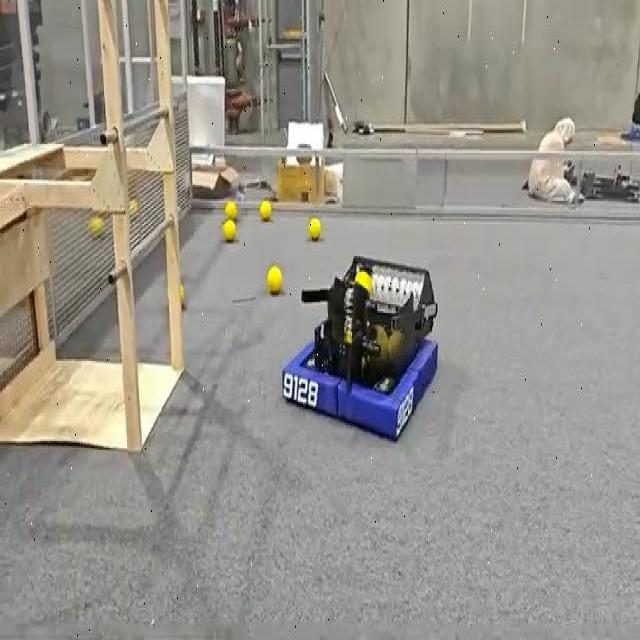Fuel: (266, 265, 283, 294), (355, 270, 373, 296), (266, 265, 282, 293), (89, 216, 104, 238), (222, 218, 235, 242), (308, 217, 321, 240), (223, 220, 236, 242), (308, 218, 321, 240), (89, 215, 103, 235), (224, 201, 238, 220), (259, 199, 271, 221), (259, 200, 271, 221), (224, 201, 237, 220), (129, 199, 138, 217), (178, 284, 184, 304), (220, 218, 227, 233), (258, 201, 264, 215), (308, 219, 314, 232)
